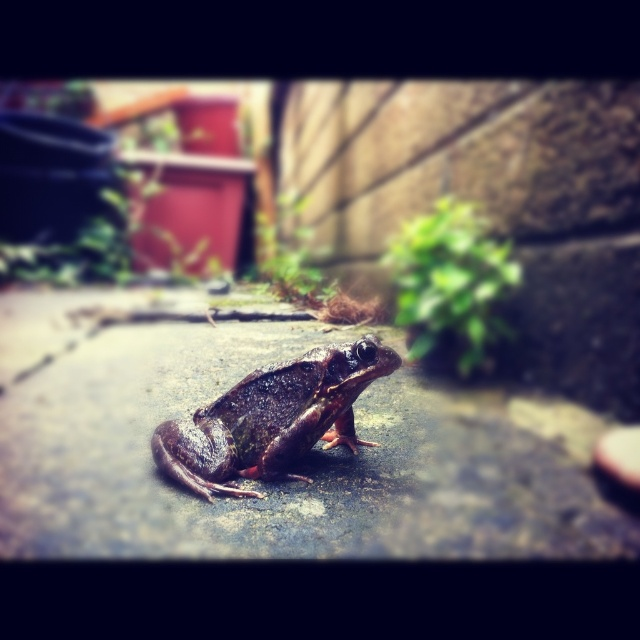Frog: (150, 332, 400, 506)
